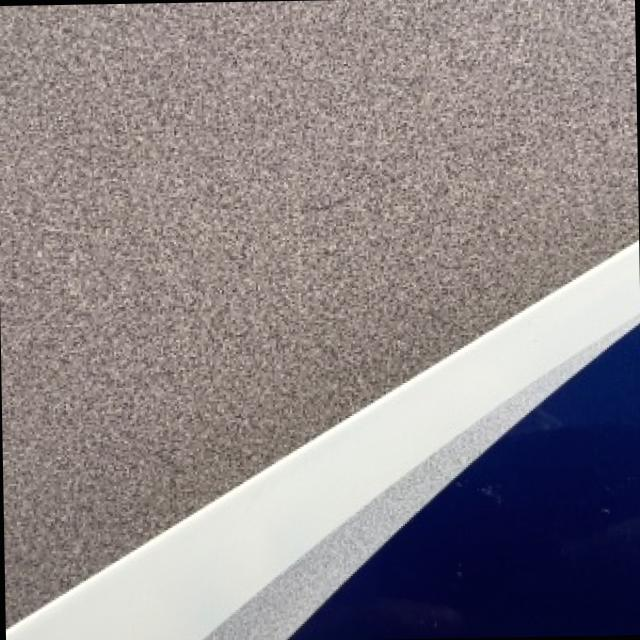healthy: (0, 0, 639, 624), (8, 242, 640, 640)
